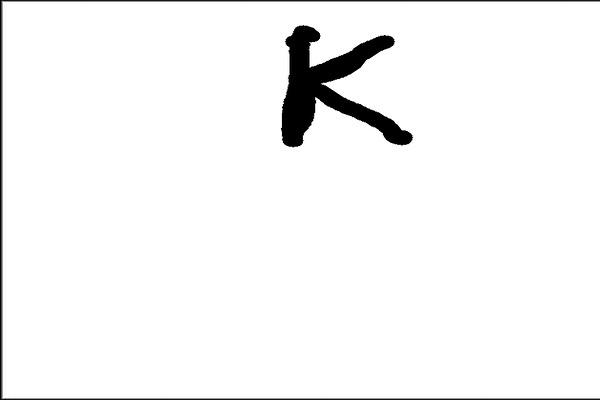K: (273, 17, 420, 156)
